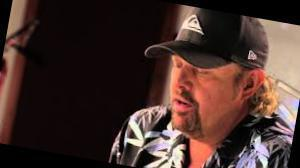Drunk: (165, 58, 223, 135)
